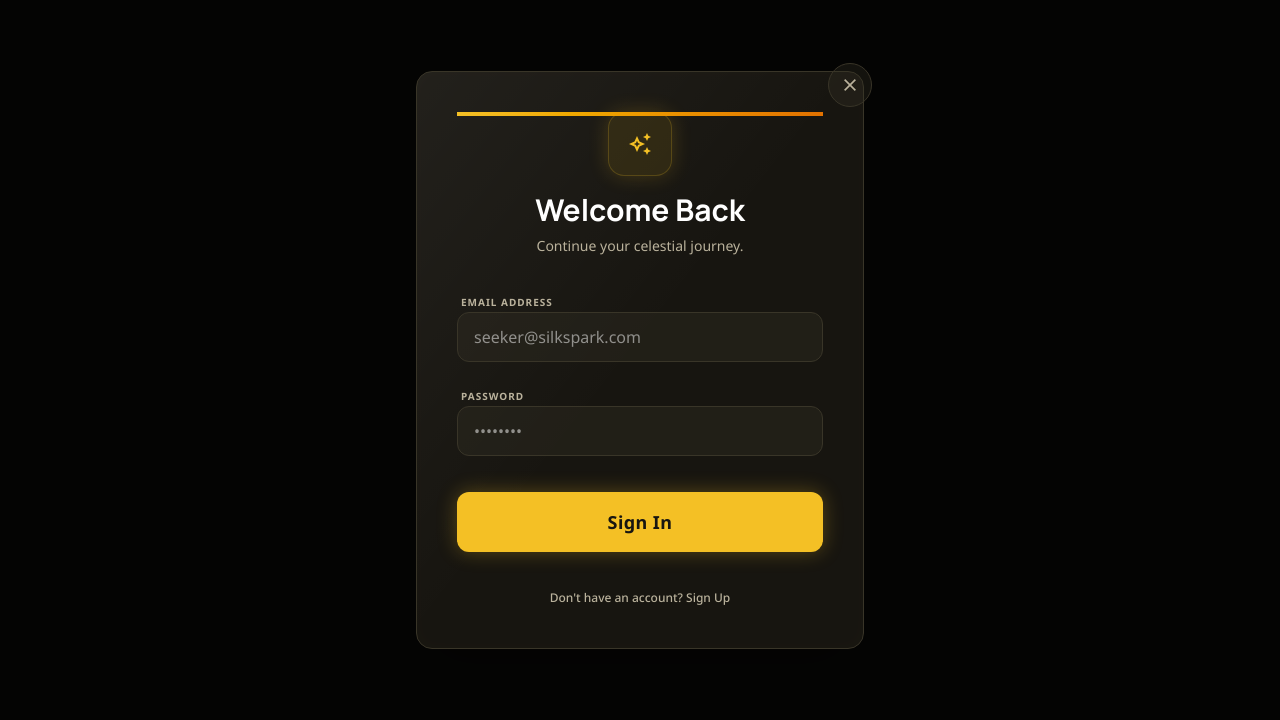
Auth › switching forms › should switch back to login form
What coordinates should you click on to do the following:
click the button "Don't have an account? Sign Up"
I would click on:
 (640, 598)
Its box is left=550, top=590, right=730, bottom=606.
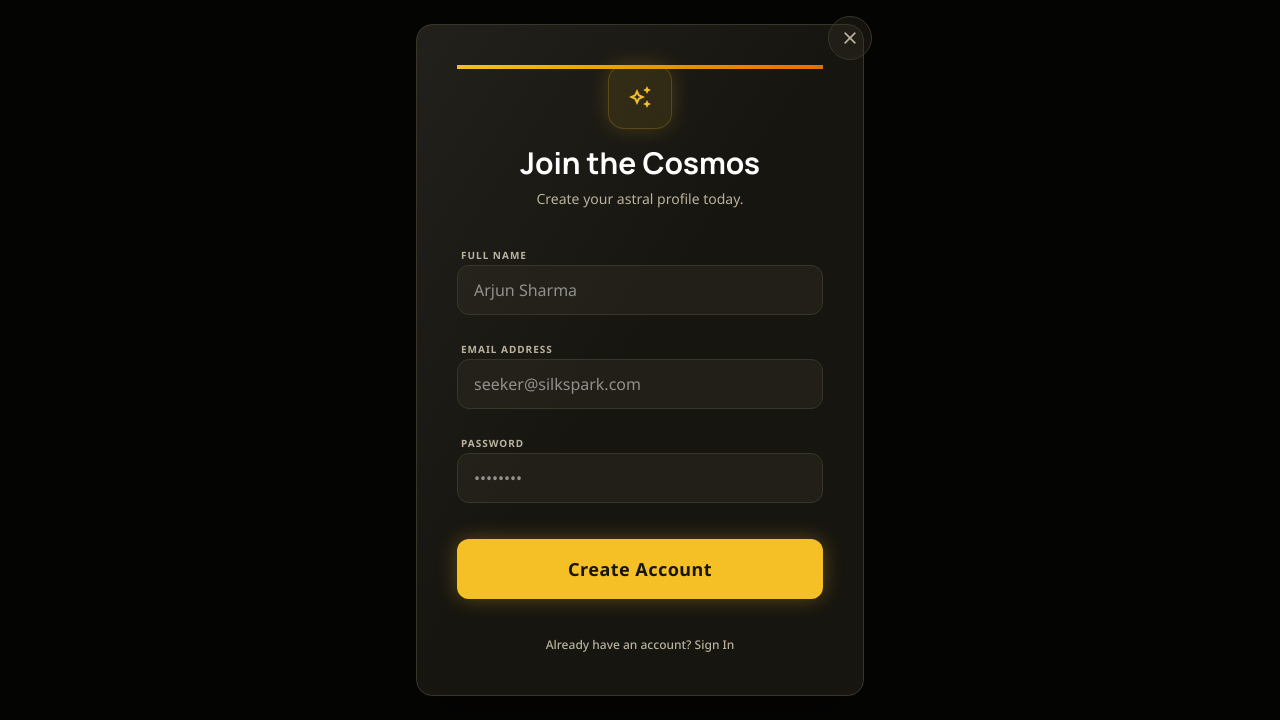
What coordinates should you click on to do the following:
click the button "Already have an account? Sign In"
I would click on:
 (640, 645)
Its box is left=546, top=637, right=734, bottom=653.
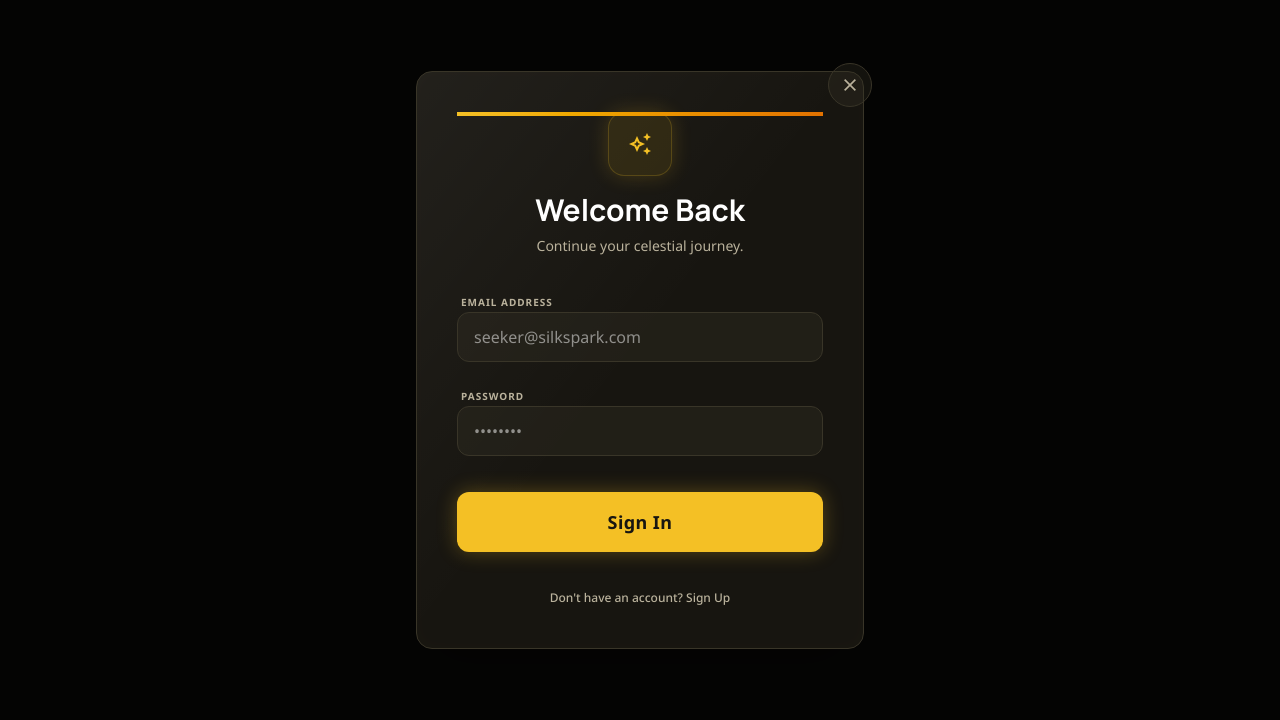
Expected: the heading "Welcome Back" is shown, left=535, top=189, right=745, bottom=230
